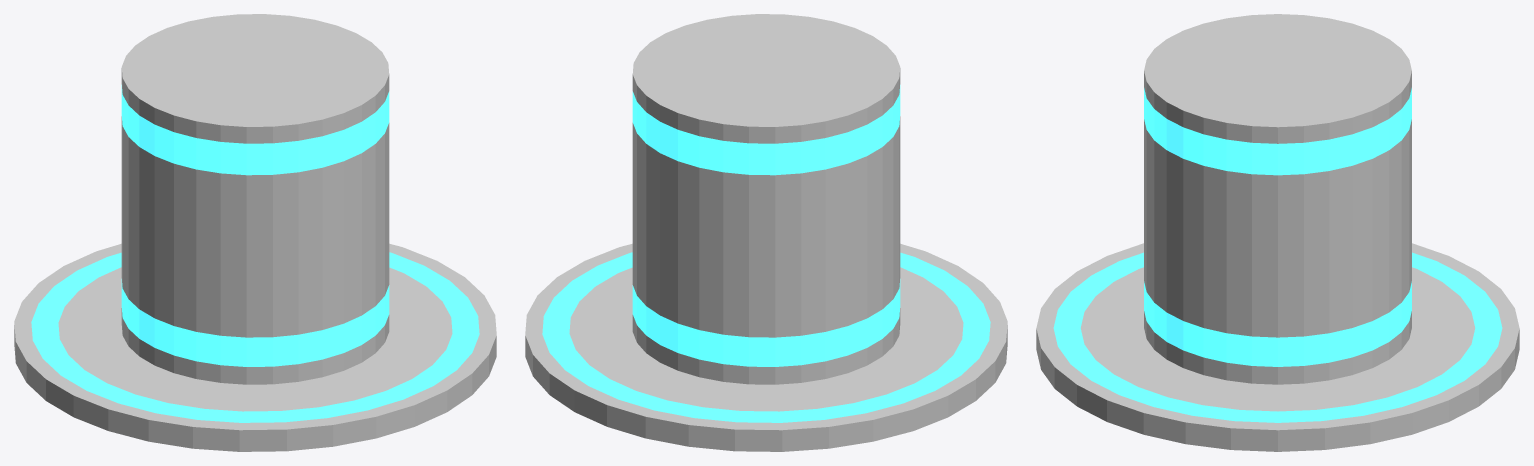
File: somehat.glb
The picture shows the model from 3 angles, left to right: view 1: azimuth 30°, elevation 25°; view 2: azimuth 150°, elevation 25°; view 3: azimuth 270°, elevation 25°; orthographic projection.
Parts seen in each view (by area): view 1: some hat; view 2: some hat; view 3: some hat.
Part boxes in pixels (x1,y1,x2,y2): some hat: (14,14,496,451); some hat: (525,14,1007,451); some hat: (1036,14,1519,451).
Bounding box in the file's own units: 0.3712 × 0.2367 × 0.3712.
